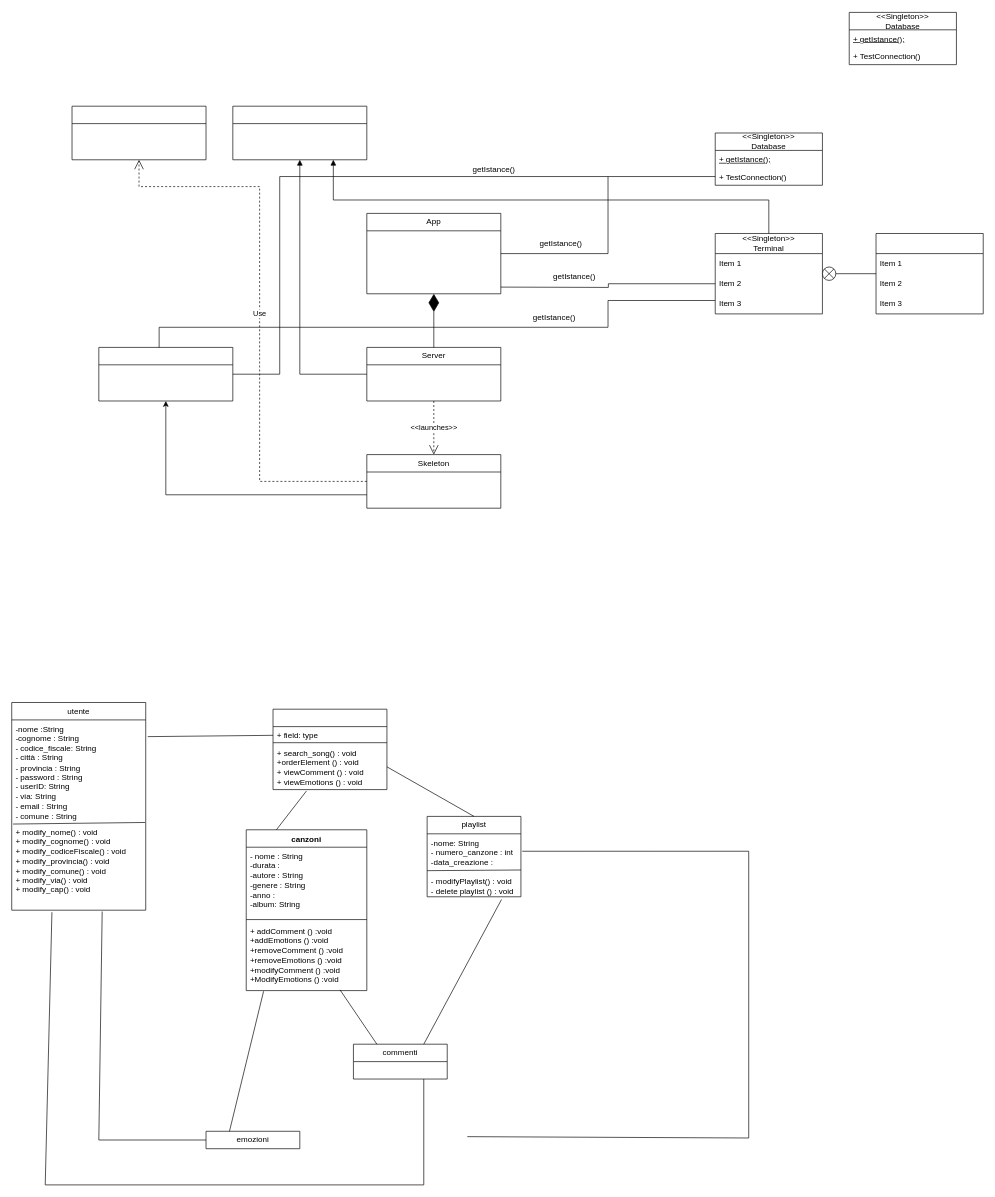
This 995x1197 diagram has some shape labels left out. Here are the shapes that lost their labels. From the top down, the box of each, then its label:
(71, 106, 206, 160): <<interface>> Runnable
(232, 106, 367, 160): Thread
(875, 233, 983, 314): <<Enum>> Message Type
(98, 347, 233, 401): ServerSlave
(272, 709, 387, 790): repository
